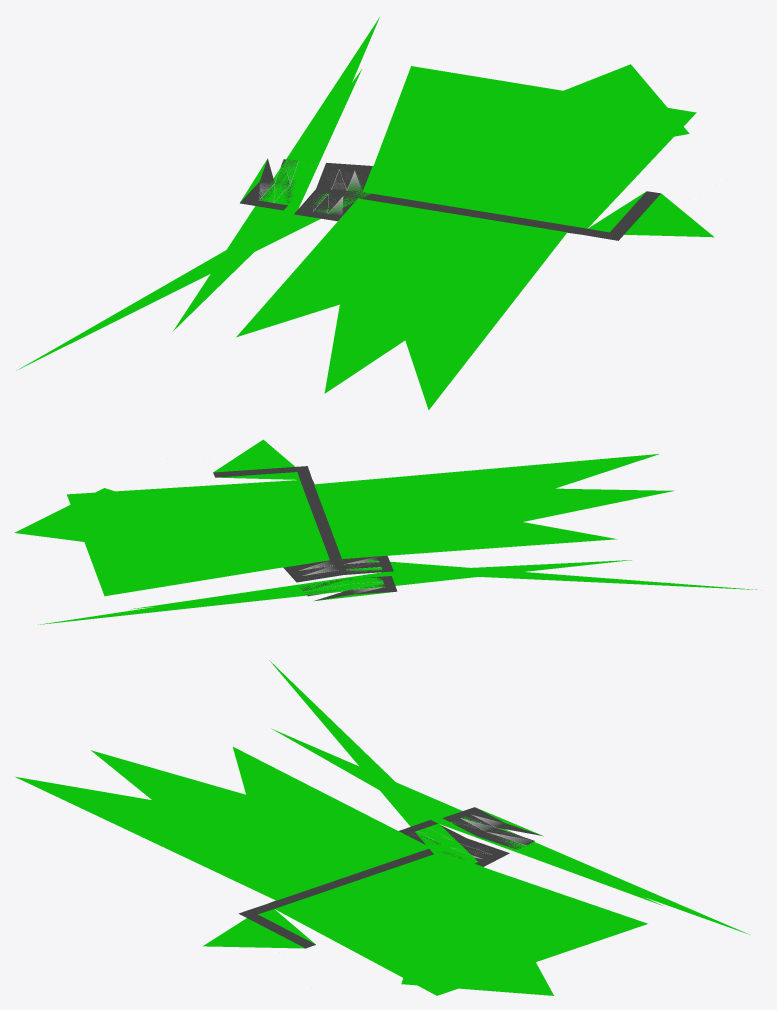
3 renders of one model, top to bottom at view 1: azimuth 30°, elevation 25°; view 2: azimuth 150°, elevation 25°; view 3: azimuth 270°, elevation 25°, orthographic. The views are drawn at different scales.
Size of the model in its own units: 204 by 0.001 by 192.
